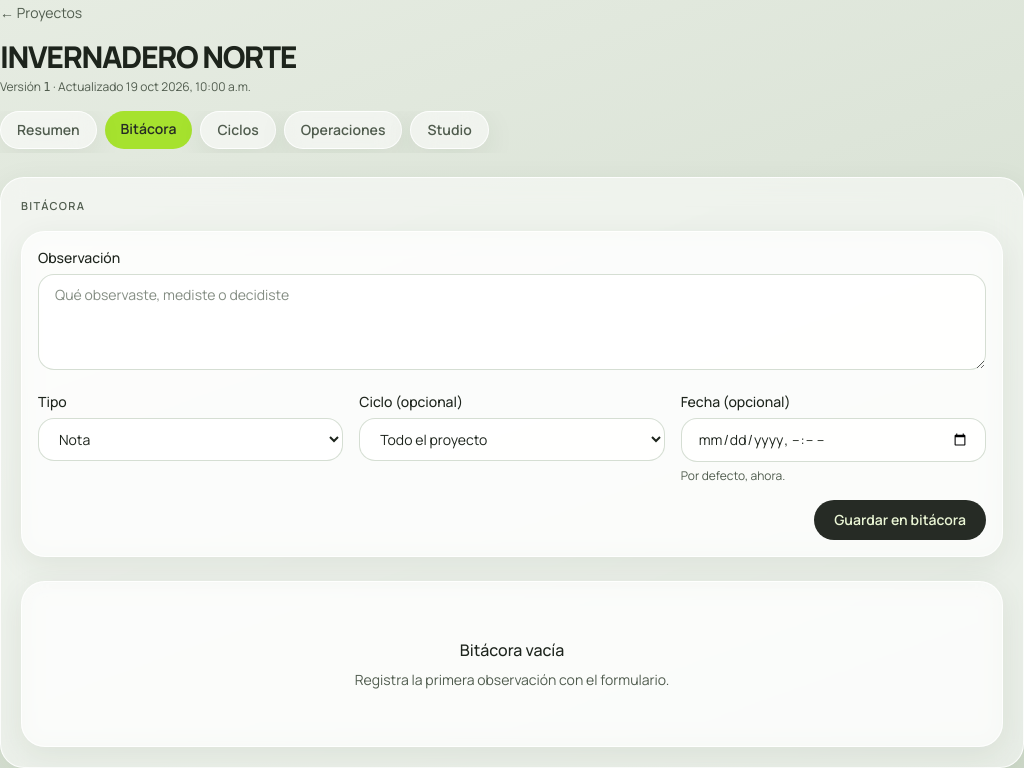
Test: ProjectDetailPage separa Resumen, Bitácora, Ciclos, Operaciones y Studio en pestañas
Expected: the heading "Bitácora" is shown, [21,198,85,213]
Click the link "Ciclos".
click(238, 130)  # box [200,111,276,149]
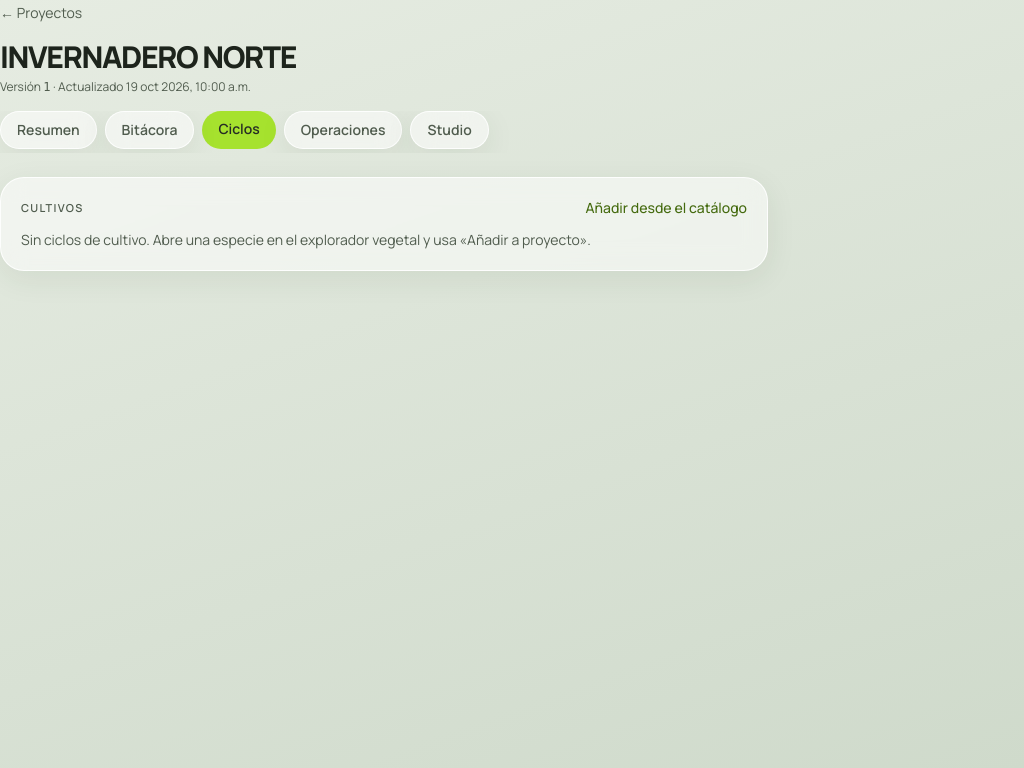
Now the text "Sin ciclos de cultivo" is shown, box [21,230,153,249]
